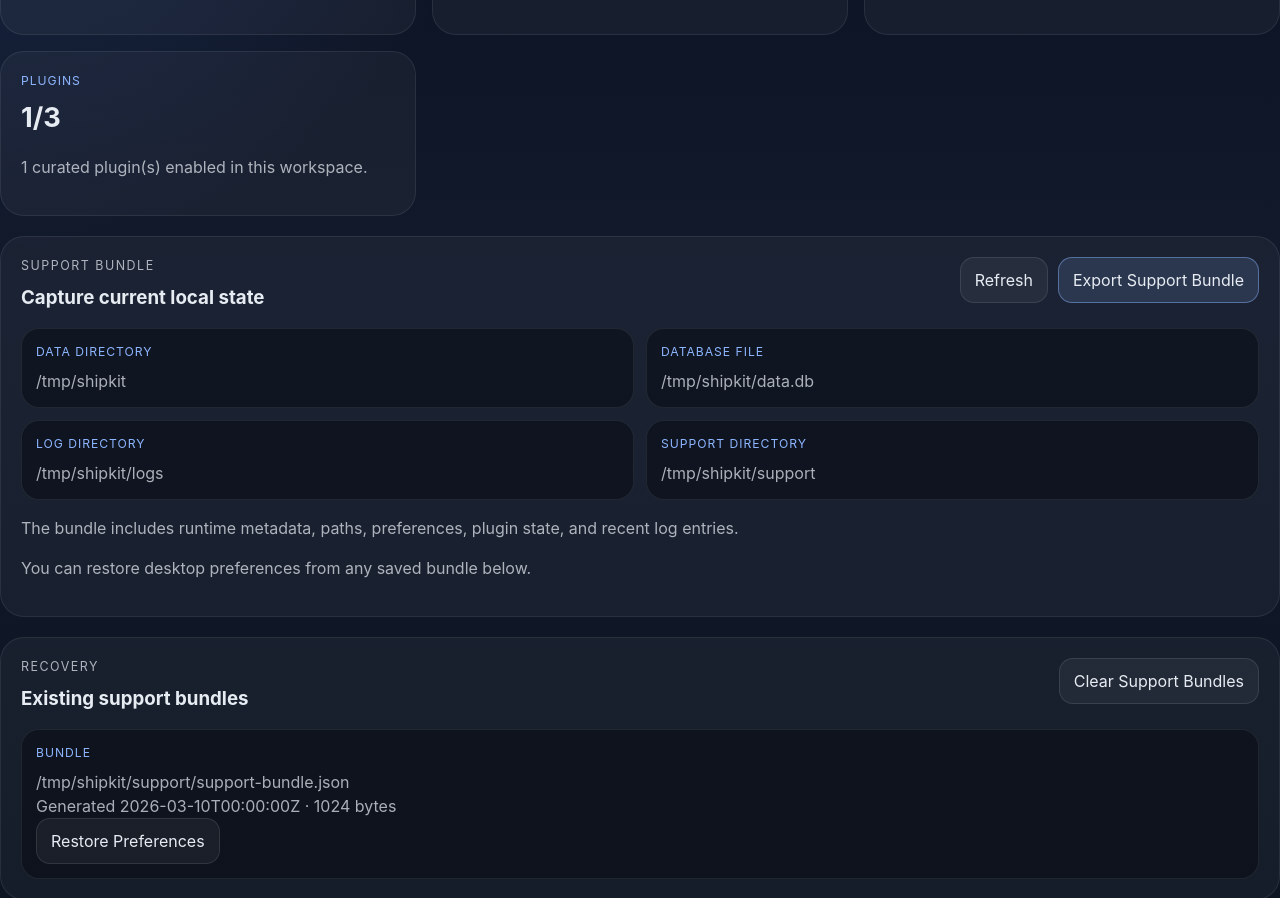
DiagnosticsPanel › restores desktop preferences from a support bundle artifact
The image size is (1280, 898).
(page scrolled)
Check: the text "/tmp/shipkit/support/support-bundle.json" is shown, box top-left (36, 772), bottom-right (350, 792)
Click the button "Restore Preferences" at point(128, 841), box top-left (36, 818), bottom-right (220, 864)
(page scrolled)
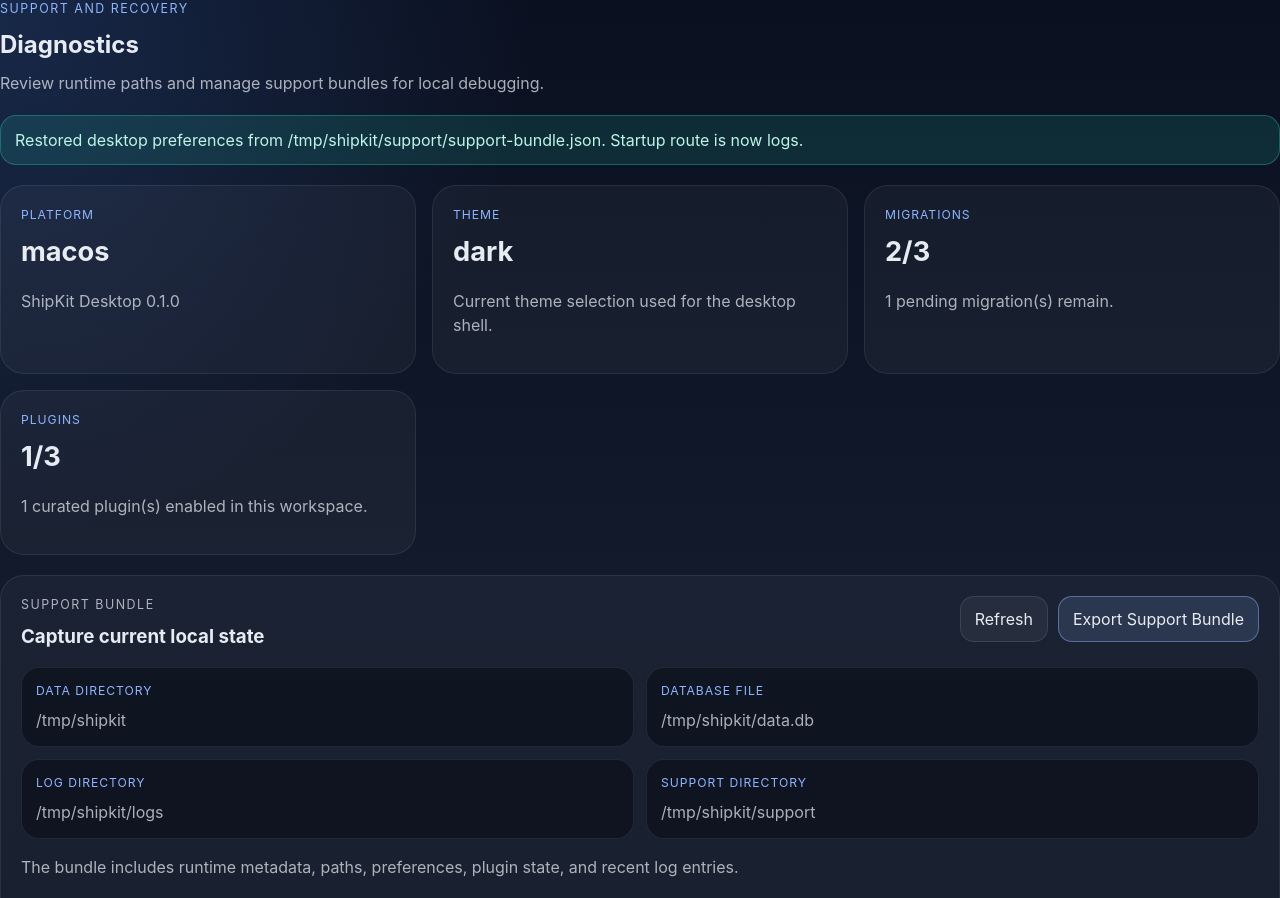
Check: the text "Restored desktop preferences from /tmp/shipkit/support/support-bundle.json" is shown, box top-left (15, 130), bottom-right (803, 150)
